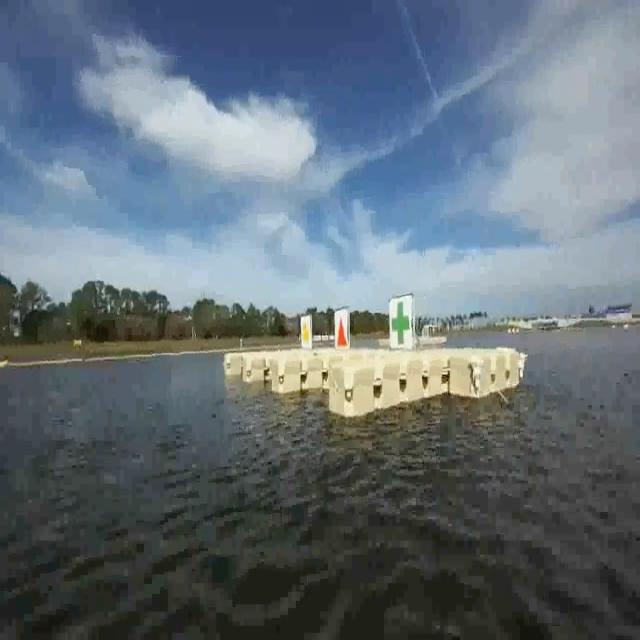blue-cross: (388, 295, 418, 354)
red-dot: (338, 318, 348, 348)
yellow-duck: (300, 313, 311, 351)
